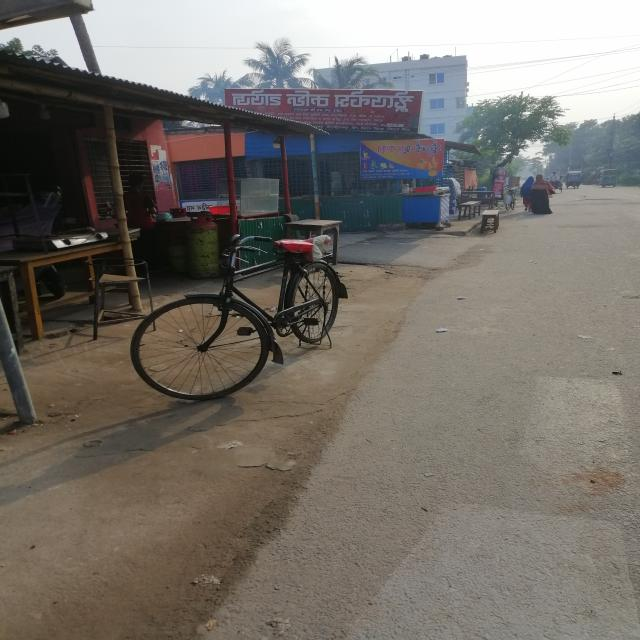Bicycle: (126, 234, 375, 403)
